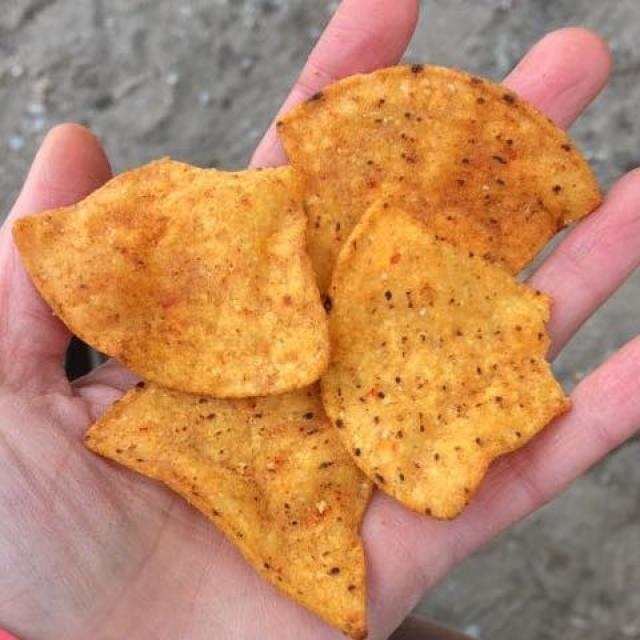corn-crisps: (29, 119, 558, 583)
